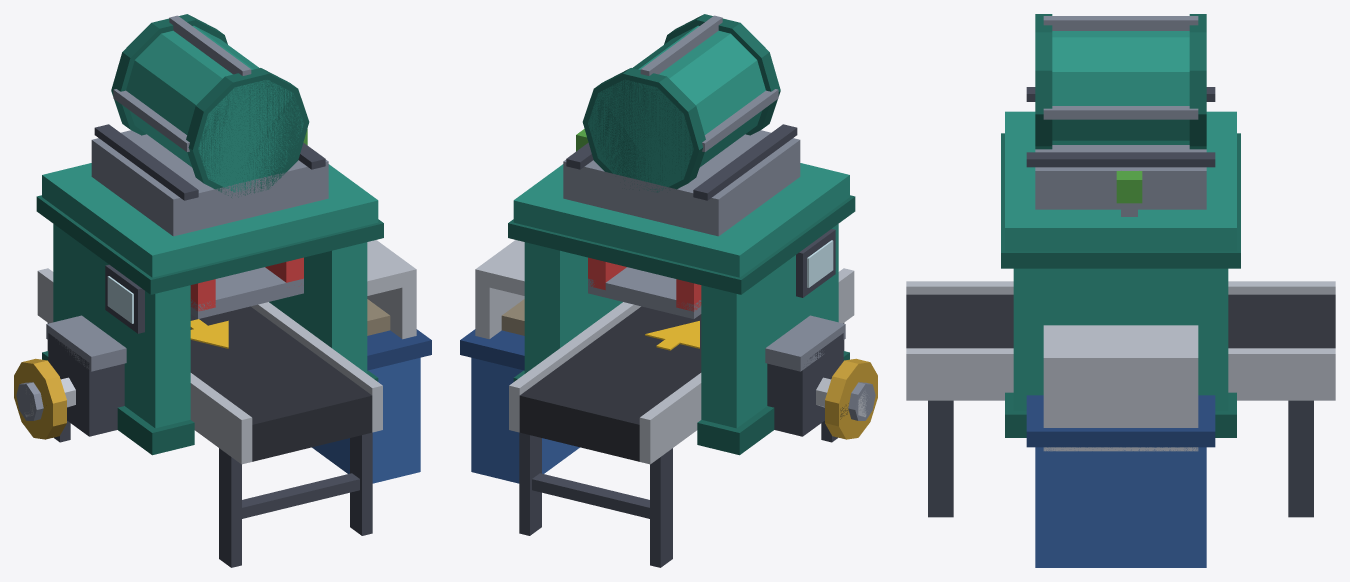
The model's file is sorter-left.glb.
3 renders of one model, left to right at view 1: azimuth 30°, elevation 25°; view 2: azimuth 150°, elevation 25°; view 3: azimuth 270°, elevation 25°, orthographic. The views are drawn at different scales.
Visible parts, largest first — view 1: sorter-left, spin-y, spin-x; view 2: sorter-left, spin-y, spin-x; view 3: sorter-left, spin-y.
Boxes of the visible parts, x1,y1,x2,y2 form: sorter-left: (24,124,431,567); spin-y: (111,14,309,197); spin-x: (14,358,66,439); sorter-left: (460,124,867,567); spin-y: (582,14,780,192); spin-x: (825,358,877,439); sorter-left: (906,87,1335,567); spin-y: (1035,14,1206,149).
Bounding box in the file's own units: 1.02 × 1.19 × 1.
3 materials, 3 textured.
